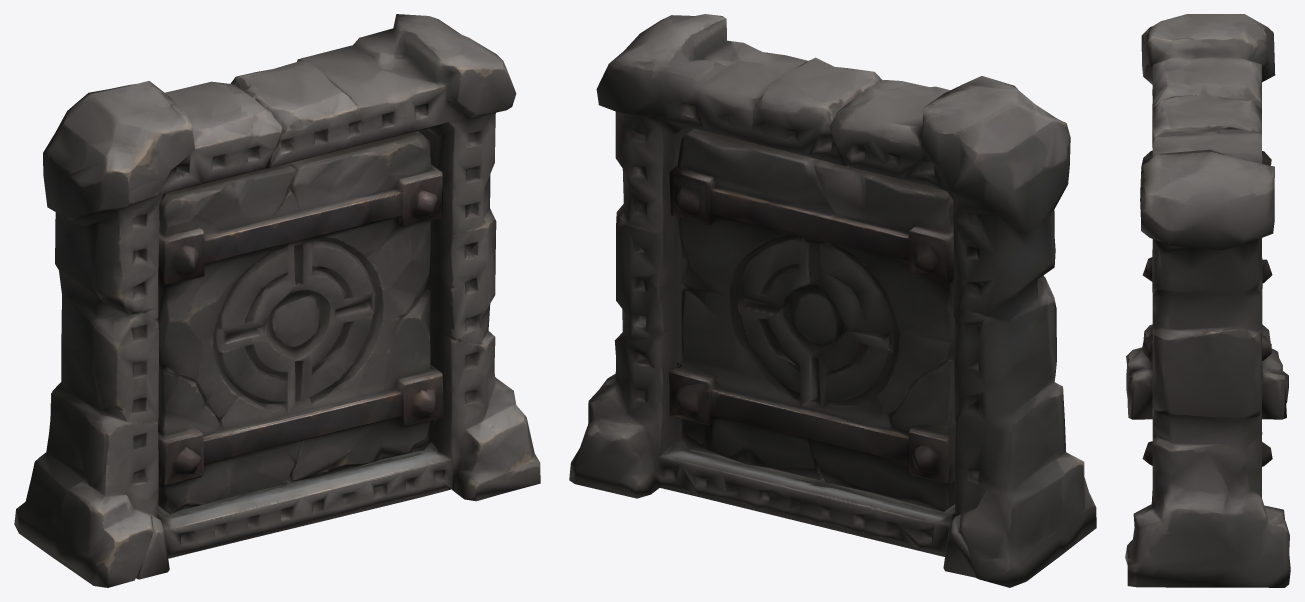
Rendered from timed_door.glb.
The picture shows the model from 3 angles, left to right: view 1: azimuth 30°, elevation 25°; view 2: azimuth 150°, elevation 25°; view 3: azimuth 270°, elevation 25°; orthographic projection. The views are drawn at different scales.
Visible parts, largest first — view 1: tripo_node_3ab21495-34d7-4c7d-aca2-fe73a3b50afe; view 2: tripo_node_3ab21495-34d7-4c7d-aca2-fe73a3b50afe; view 3: tripo_node_3ab21495-34d7-4c7d-aca2-fe73a3b50afe.
Boxes of the visible parts, bbox=[...] form: tripo_node_3ab21495-34d7-4c7d-aca2-fe73a3b50afe: bbox=[14, 14, 540, 587]; tripo_node_3ab21495-34d7-4c7d-aca2-fe73a3b50afe: bbox=[569, 14, 1096, 587]; tripo_node_3ab21495-34d7-4c7d-aca2-fe73a3b50afe: bbox=[1125, 14, 1290, 587].
Bounding box in the file's own units: 1 × 0.9365 × 0.3493.
Materials: 1 (1 with a texture image).
